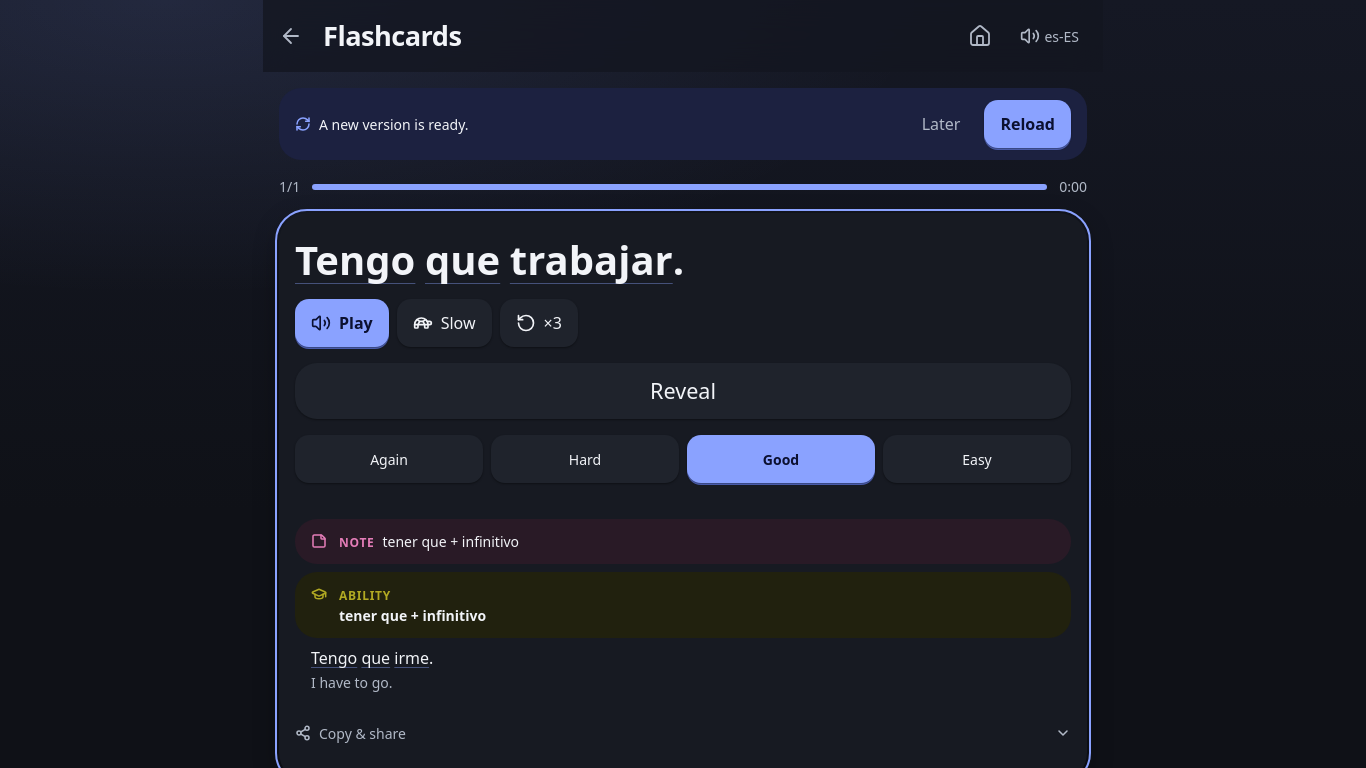
keyboard and screen-reader behaviour › traps focus in the word panel and restores it on close
Click the button with aria-label "About “Tengo”" at (355, 260), box [295,237,415,283]
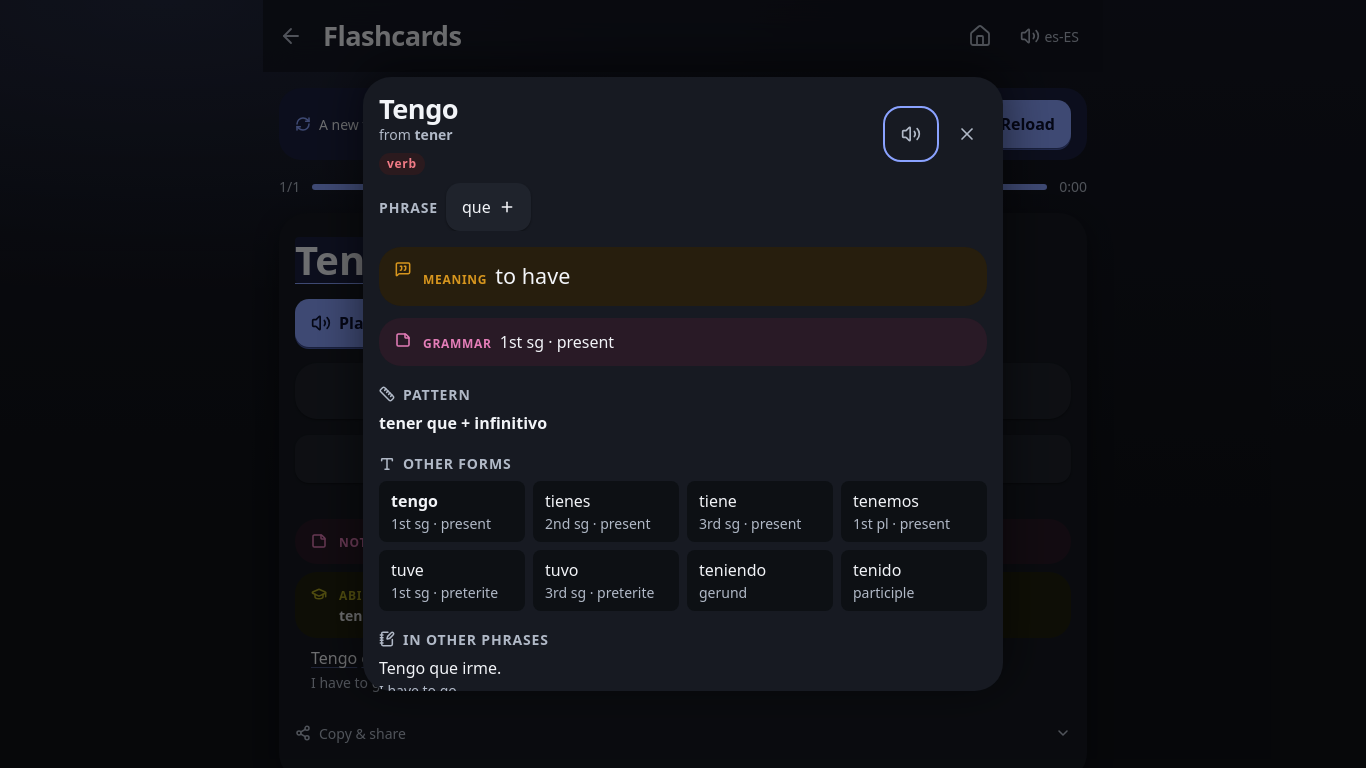
Press Escape
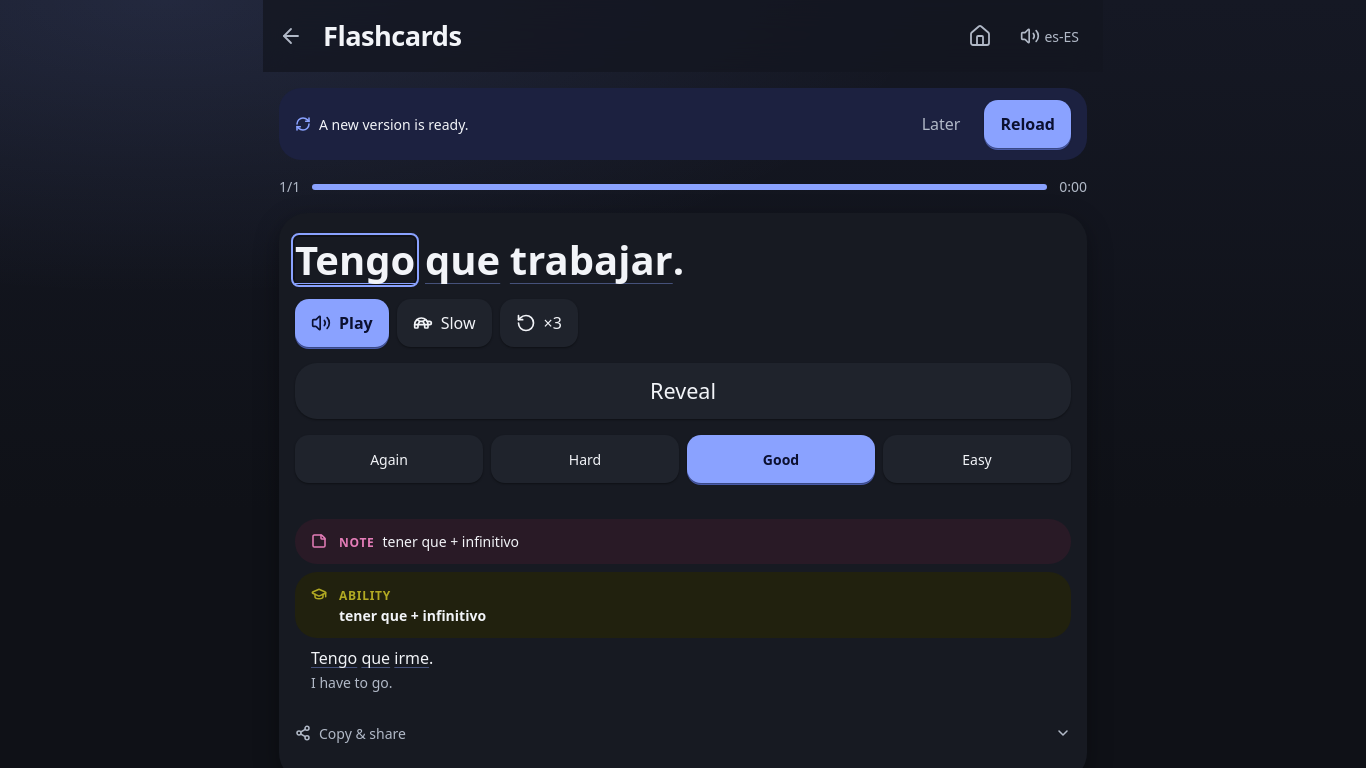
Check: the dialog is gone
